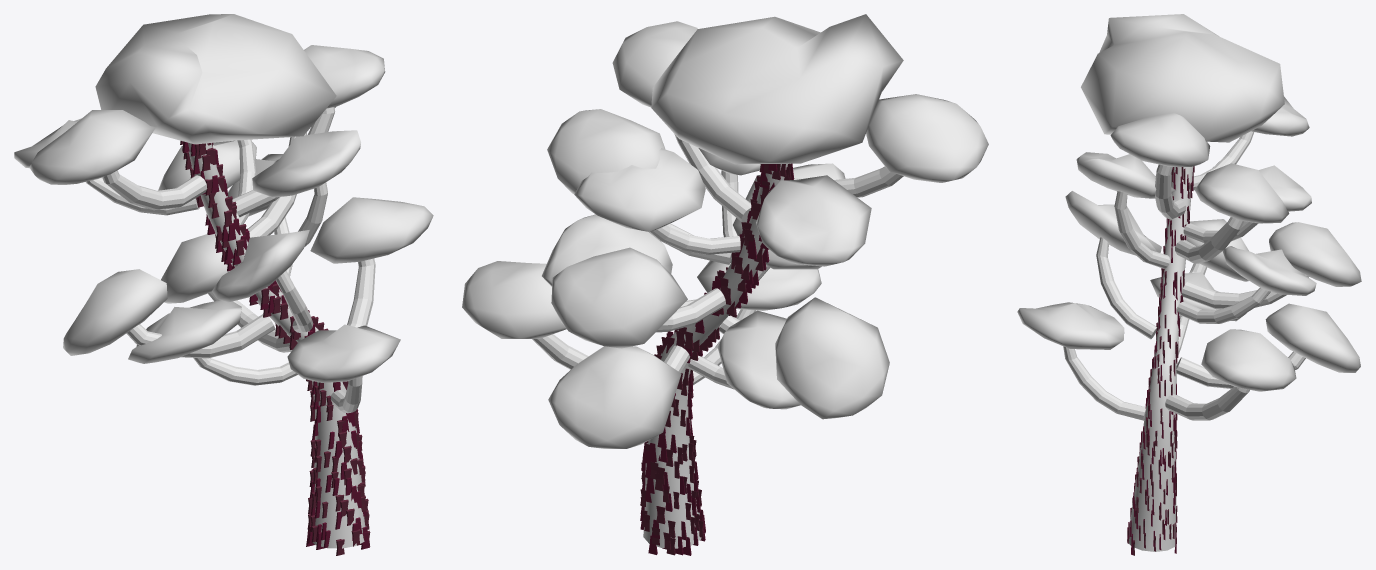
File: lowpolystylizedgntree3.6fbx.fbx
The picture shows the model from 3 angles, left to right: view 1: azimuth 30°, elevation 25°; view 2: azimuth 150°, elevation 25°; view 3: azimuth 270°, elevation 25°; orthographic projection. The views are drawn at different scales.
Visible parts, largest first — view 1: BezierCurve; view 2: BezierCurve; view 3: BezierCurve.
Boxes of the visible parts, left/top/right/bottom form: BezierCurve: left=14, top=14, right=433, bottom=555; BezierCurve: left=462, top=14, right=988, bottom=555; BezierCurve: left=1017, top=14, right=1361, bottom=555.
Size of the model in its own units: 1046 by 1223 by 815.
